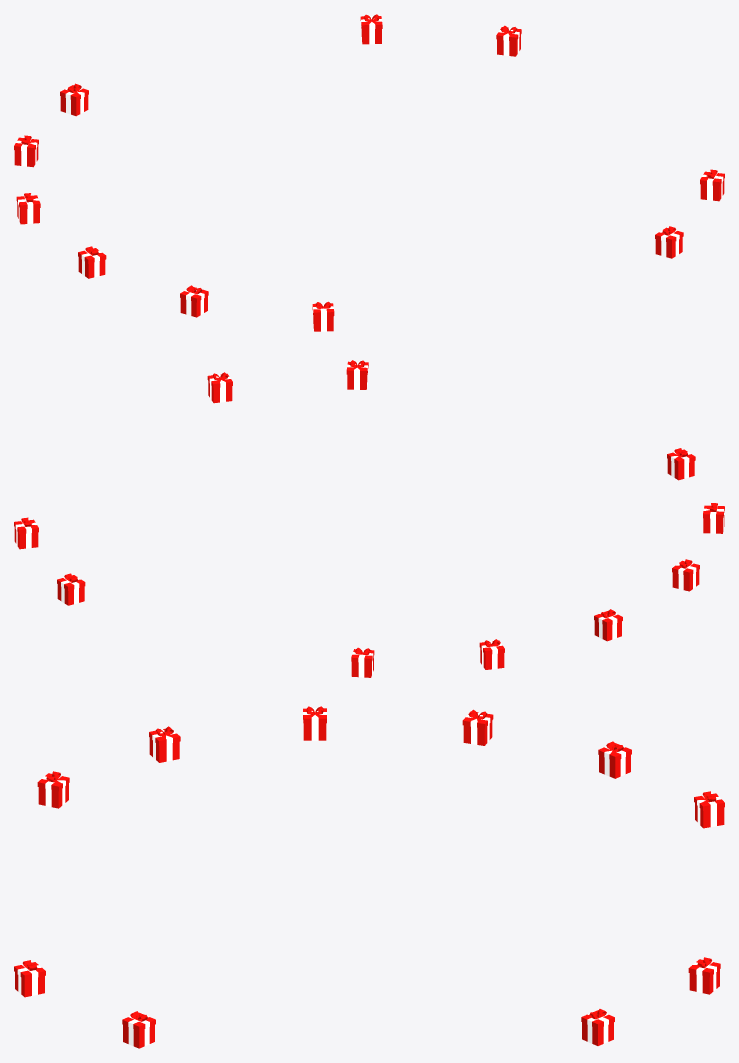
Rendered from SilversponsorGIft.glb.
3 views of the same model, one above another, from view 1: azimuth 30°, elevation 25°; view 2: azimuth 150°, elevation 25°; view 3: azimuth 270°, elevation 25° (orthographic). The views are drawn at different scales.
Parts seen in each view (by area): view 1: Cube.035, Cube.032, Cube.027, Cube.030, Cube.025, Cube.034, Cube.037, Cube.033, Cube.029, Cube.036; view 2: Cube.029, Cube.036, Cube.032, Cube.033, Cube.037, Cube.025, Cube.034, Cube.035, Cube.030, Cube.027; view 3: Cube.025, Cube.037, Cube.034, Cube.029, Cube.036, Cube.027, Cube.030, Cube.035, Cube.033, Cube.032.
Boxes of the visible parts, x1,y1,x2,y2 form: Cube.035: (60, 83, 88, 116); Cube.032: (78, 246, 106, 278); Cube.027: (655, 226, 683, 258); Cube.030: (180, 285, 208, 317); Cube.025: (700, 169, 724, 201); Cube.034: (14, 135, 38, 167); Cube.037: (496, 25, 521, 56); Cube.033: (16, 193, 40, 224); Cube.029: (312, 301, 334, 331); Cube.036: (360, 14, 382, 44); Cube.029: (667, 448, 695, 480); Cube.036: (57, 573, 85, 605); Cube.032: (672, 559, 699, 591); Cube.033: (594, 609, 622, 641); Cube.037: (14, 517, 38, 549); Cube.025: (207, 372, 232, 403); Cube.034: (479, 639, 504, 669); Cube.035: (351, 647, 374, 677); Cube.030: (703, 503, 724, 533); Cube.027: (346, 360, 368, 389); Cube.025: (122, 1011, 155, 1048); Cube.037: (581, 1009, 614, 1045); Cube.034: (598, 741, 631, 778); Cube.029: (37, 771, 69, 808); Cube.036: (688, 957, 720, 994); Cube.027: (14, 960, 45, 997); Cube.030: (149, 726, 180, 762); Cube.035: (694, 791, 724, 828); Cube.033: (462, 709, 493, 745); Cube.032: (303, 706, 326, 740).
Size of the model in its own units: 19.45 by 0.796 by 18.36.
